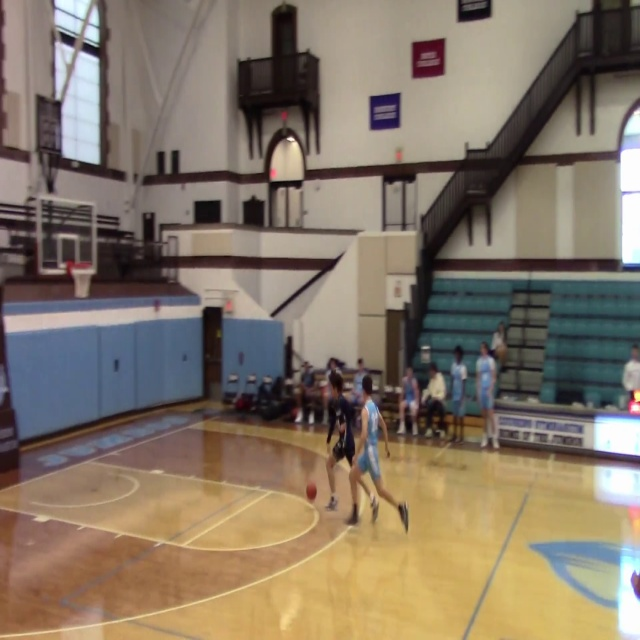Basketball: (630, 570, 640, 601), (306, 483, 317, 500)
